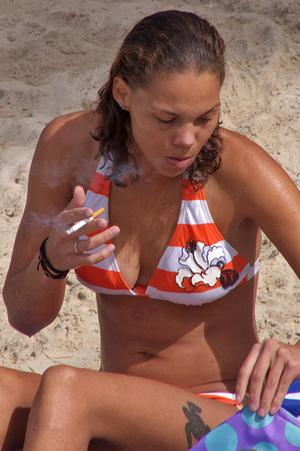person: (2, 9, 300, 451)
